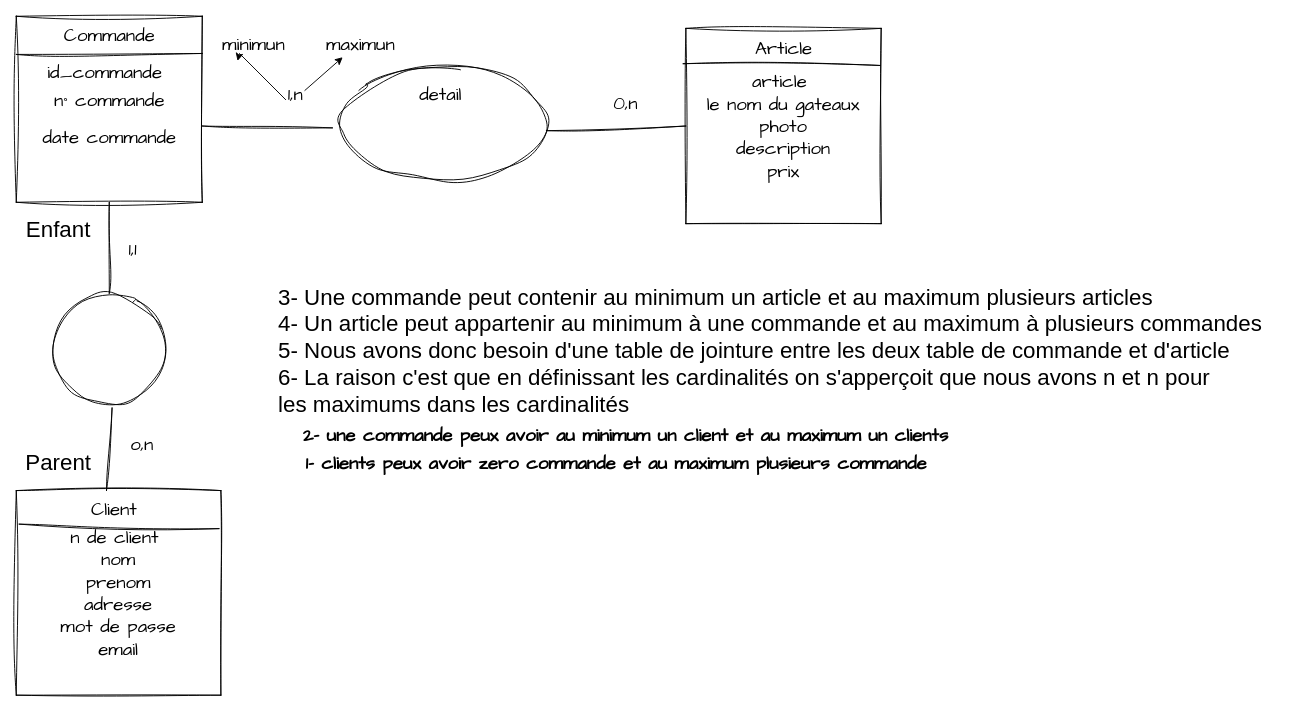
The diagram is 1297 pixels wide and 711 high, and some of its shapes have lost their labels. The box of each missing label's shape, as (x1, y1, x2, y2) in pixels:
ligne de commande date_de commande: (341, 65, 546, 180)
Passer commande: (53, 292, 165, 405)
